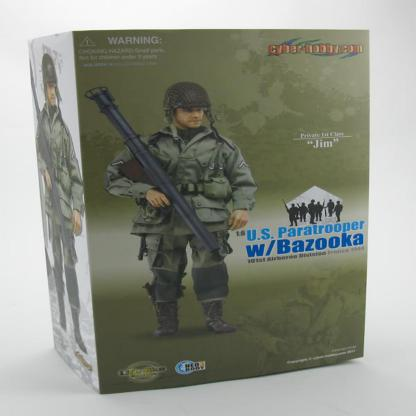face: (175, 101, 204, 129), (46, 83, 58, 106)
